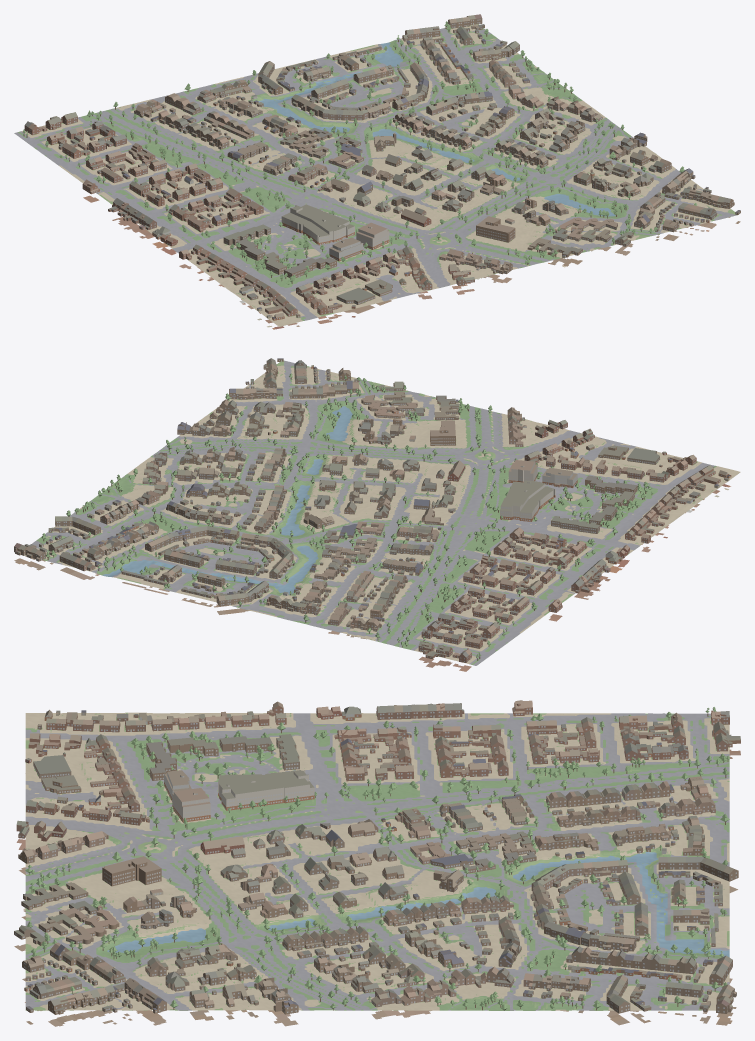
The model's file is bosven-veghel_x332_y807.glb.
The picture shows the model from 3 angles, top to bottom: view 1: azimuth 30°, elevation 25°; view 2: azimuth 150°, elevation 25°; view 3: azimuth 270°, elevation 25°; orthographic projection. The views are drawn at different scales.
Visible parts, largest first — view 1: class:wall, class:road, class:roof, class:sand, class:green, class:trim, class:tree, class:grass, class:water, class:trunk; view 2: class:wall, class:road, class:roof, class:sand, class:green, class:trim, class:tree, class:grass, class:water, class:trunk; view 3: class:wall, class:road, class:roof, class:sand, class:green, class:trim, class:tree, class:grass, class:water, class:trunk.
Part boxes in pixels (<box>): class:wall: <box>24,16,740,329</box>; class:road: <box>14,28,736,320</box>; class:roof: <box>25,14,740,318</box>; class:sand: <box>21,24,730,326</box>; class:green: <box>18,27,722,320</box>; class:trim: <box>25,19,740,319</box>; class:tree: <box>23,21,696,284</box>; class:grass: <box>33,24,738,319</box>; class:water: <box>258,42,615,216</box>; class:trunk: <box>23,27,655,283</box>; class:wall: <box>14,359,731,671</box>; class:road: <box>32,360,714,665</box>; class:roof: <box>14,358,730,657</box>; class:sand: <box>25,365,740,663</box>; class:green: <box>36,366,716,664</box>; class:trim: <box>14,359,730,661</box>; class:tree: <box>41,373,653,658</box>; class:grass: <box>25,361,723,662</box>; class:water: <box>102,406,352,594</box>; class:trunk: <box>43,378,652,660</box>; class:wall: <box>14,702,740,1026</box>; class:road: <box>25,713,729,1010</box>; class:roof: <box>14,700,740,1011</box>; class:sand: <box>25,712,729,1010</box>; class:green: <box>25,713,729,1010</box>; class:trim: <box>15,707,736,1013</box>; class:tree: <box>25,707,729,1010</box>; class:grass: <box>25,712,729,1010</box>; class:water: <box>107,852,729,957</box>; class:trunk: <box>29,713,728,1010</box>.
Size of the model in its own units: 518 by 25.56 by 516.
